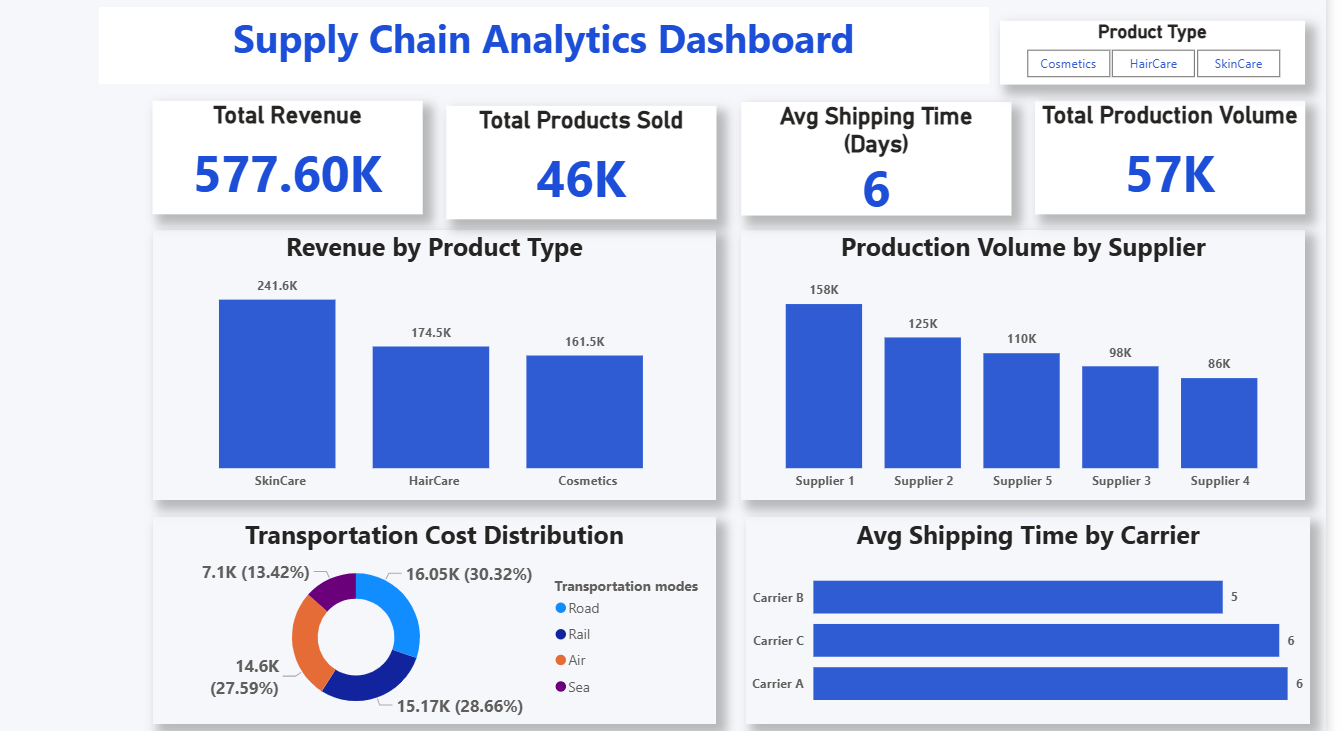

The page's visual inventory and layout, read from the dashboard file:
{"tool":"powerbi","page":{"name":"Overview","canvas":[1280,720],"ordinal":0},"visuals":[{"type":"textbox","box":[95.3,14.5,859,74.8],"z":0},{"type":"card","title":"Total Revenue","fields":{"Values":["Sum(supply_chain_data (2).Revenue generated)"]},"box":[147.2,105,260.6,109.8],"z":1000},{"type":"card","title":"Total Products Sold","fields":{"Values":["Sum(supply_chain_data (2).Number of products sold)"]},"box":[431.1,109.8,260.6,109.8],"z":2000},{"type":"card","title":"Avg Shipping Time (Days)","fields":{"Values":["Avg(supply_chain_data (2).Shipping times(Days))"]},"box":[715,106.2,260.6,109.8],"z":3000},{"type":"card","title":"Total Production Volume","fields":{"Values":["Sum(supply_chain_data (2).Production volumes)"]},"box":[998.9,105,260.6,109.8],"z":4000},{"type":"clusteredColumnChart","title":"Revenue by Product Type","fields":{"Category":["supply_chain_data (2).Product type"],"Y":["Sum(supply_chain_data (2).Revenue generated)"]},"box":[147.2,229.2,544.1,260.6],"z":5000},{"type":"clusteredColumnChart","title":"Production Volume by Supplier","fields":{"Category":["supply_chain_data (2).Supplier name"],"Y":["Sum(supply_chain_data (2).Revenue generated)"]},"box":[715.4,229.2,544.1,260.6],"z":6000},{"type":"donutChart","title":"Transportation Cost Distribution","fields":{"Category":["supply_chain_data (2).Transportation modes"],"Y":["Sum(supply_chain_data (2).Costs)"]},"box":[147.2,506.7,544.1,200.3],"z":7000},{"type":"clusteredBarChart","title":"Avg Shipping Time by Carrier","fields":{"Category":["supply_chain_data (2).Shipping carriers"],"Y":["Avg(supply_chain_data (2).Shipping times(Days))"]},"box":[720.2,506.7,544.1,200.3],"z":8000},{"type":"slicer","title":"Product Type","fields":{"Values":["supply_chain_data (2).Product type"]},"box":[965.2,27.7,294.4,61.5],"z":9000}]}

Visuals, with their boxes on the page's 1280x720 design canvas (x1, y1, x2, y2). These are canvas units, not pixel positions in the 1344x731 screenshot, which may show the page scaled, cropped or inside an application window:
textbox: (95, 14, 954, 89)
"Total Revenue" card: (147, 105, 408, 215)
"Total Products Sold" card: (431, 110, 692, 220)
"Avg Shipping Time (Days)" card: (715, 106, 976, 216)
"Total Production Volume" card: (999, 105, 1260, 215)
"Revenue by Product Type" clusteredColumnChart: (147, 229, 691, 490)
"Production Volume by Supplier" clusteredColumnChart: (715, 229, 1260, 490)
"Transportation Cost Distribution" donutChart: (147, 507, 691, 707)
"Avg Shipping Time by Carrier" clusteredBarChart: (720, 507, 1264, 707)
"Product Type" slicer: (965, 28, 1260, 89)
